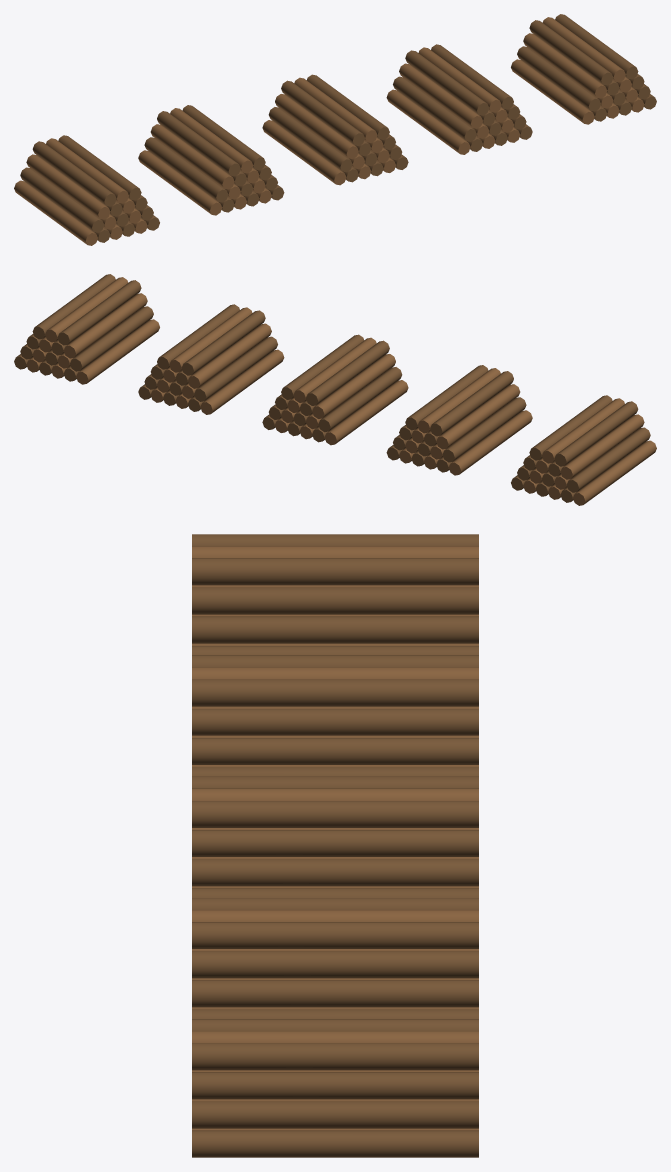
Rendered from theme-sawmill-1b.glb.
3 renders of one model, top to bottom at view 1: azimuth 30°, elevation 25°; view 2: azimuth 150°, elevation 25°; view 3: azimuth 270°, elevation 25°, orthographic. The views are drawn at different scales.
Parts seen in each view (by area): view 1: 01_#7a5a3a, 00_#8a6440; view 2: 01_#7a5a3a, 00_#8a6440; view 3: 01_#7a5a3a, 00_#8a6440.
Boxes of the visible parts, x1,y1,x2,y2 form: 01_#7a5a3a: [20, 14, 656, 242]; 00_#8a6440: [14, 17, 644, 245]; 01_#7a5a3a: [14, 274, 650, 502]; 00_#8a6440: [26, 277, 656, 505]; 01_#7a5a3a: [192, 534, 478, 1157]; 00_#8a6440: [192, 546, 478, 1130].
Bounding box in the file's own units: 41.4 × 3.3 × 9.
